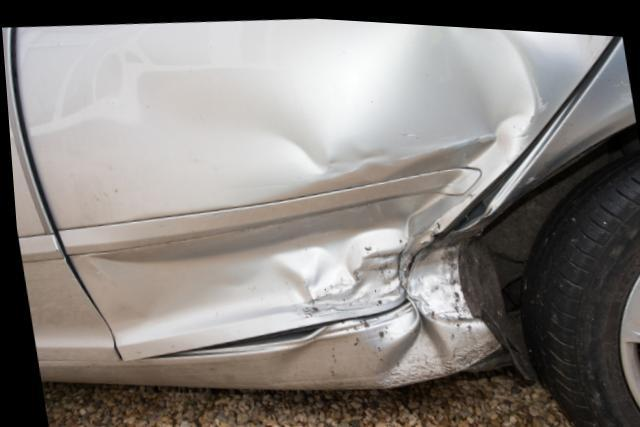dent: (168, 18, 546, 332), (365, 227, 482, 375)
